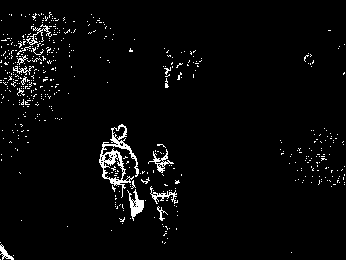person: (98, 122, 142, 224), (144, 140, 186, 242)
